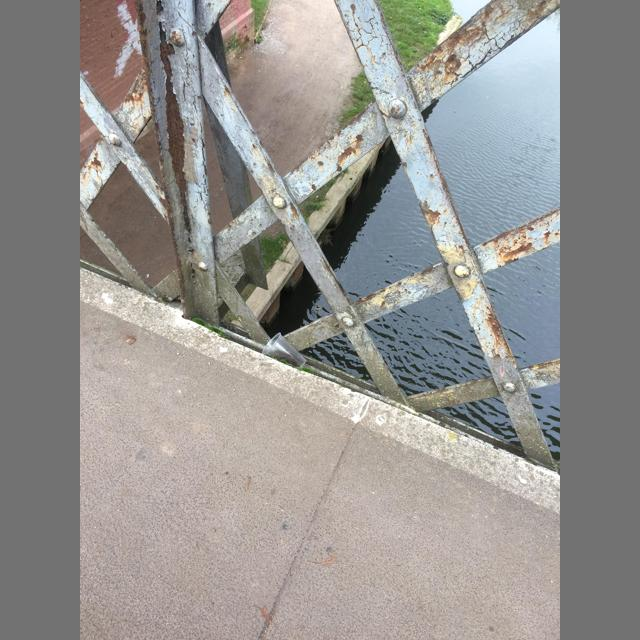litter: (262, 333, 306, 367)
